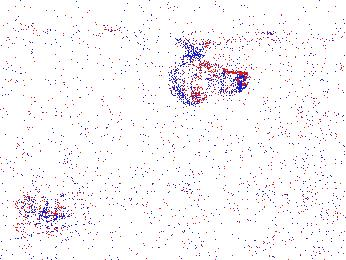flame jellyfish: (165, 52, 248, 107), (44, 166, 114, 224), (1, 165, 51, 217)
